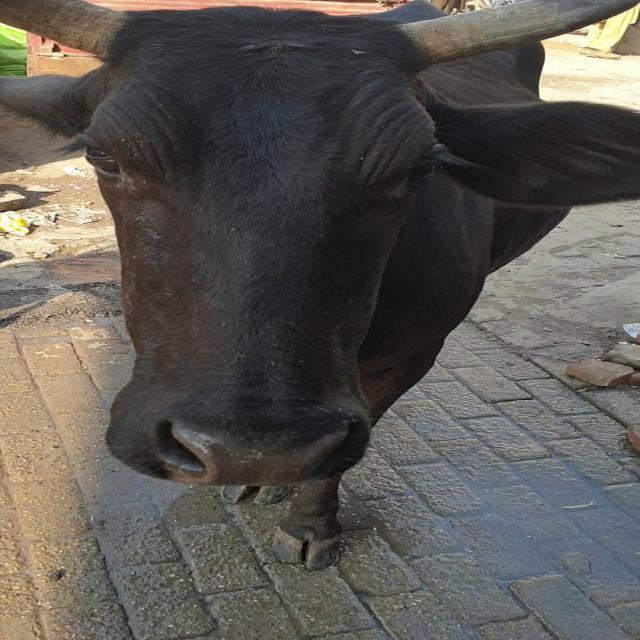cowFace: (77, 22, 413, 492)
